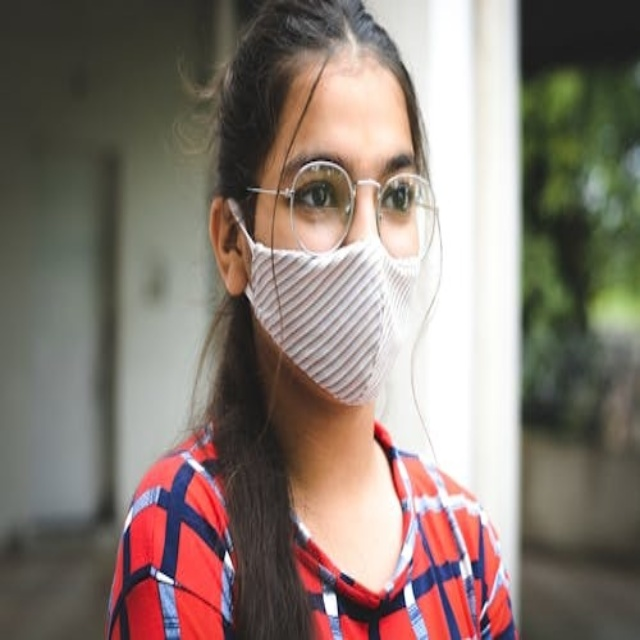Gafas: (242, 161, 440, 259)
Mascara: (231, 188, 426, 403)
